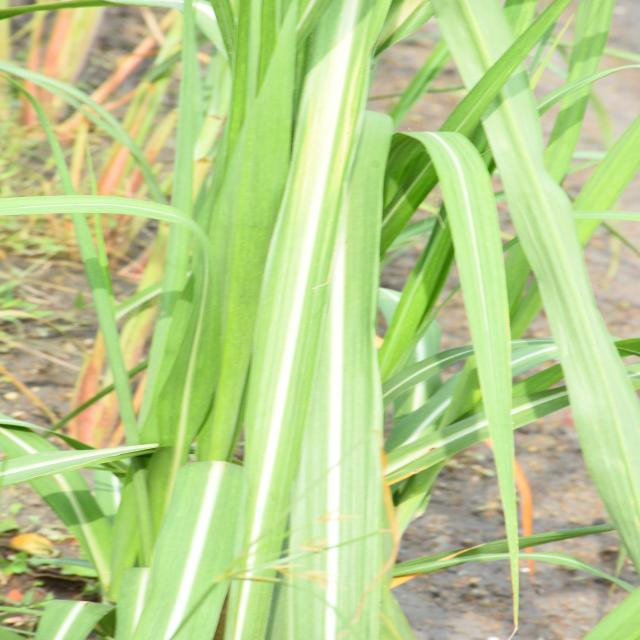Sugarcane: (226, 0, 392, 640)
